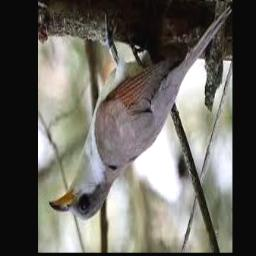Cuckoo: (50, 5, 232, 220)
